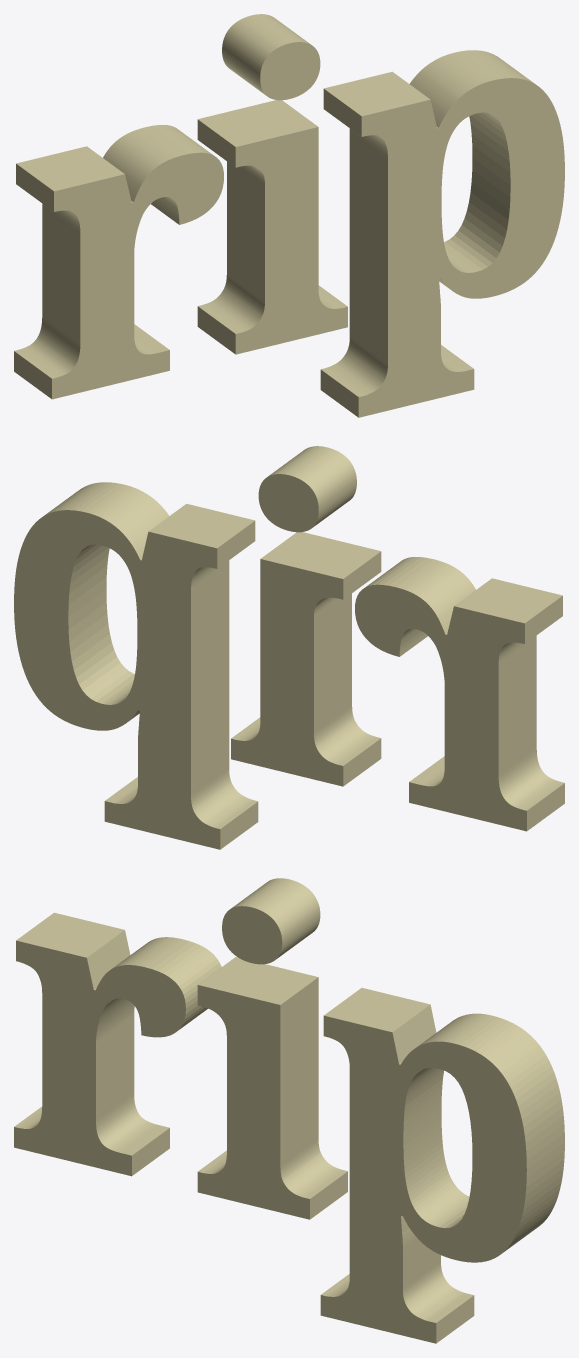
Rendered from rip.glb.
3 renders of one model, top to bottom at view 1: azimuth 30°, elevation 25°; view 2: azimuth 150°, elevation 25°; view 3: azimuth 330°, elevation 25°, orthographic.
Visible parts, largest first — view 1: Mesh_Mesh_head_geo.001_lambert2SG.001; view 2: Mesh_Mesh_head_geo.001_lambert2SG.001; view 3: Mesh_Mesh_head_geo.001_lambert2SG.001.
Part boxes in pixels (left/top/right/bottom): Mesh_Mesh_head_geo.001_lambert2SG.001: left=14, top=14, right=564, bottom=417; Mesh_Mesh_head_geo.001_lambert2SG.001: left=14, top=446, right=564, bottom=849; Mesh_Mesh_head_geo.001_lambert2SG.001: left=14, top=878, right=564, bottom=1343.
Size of the model in its own units: 31.06 by 22.65 by 4.
